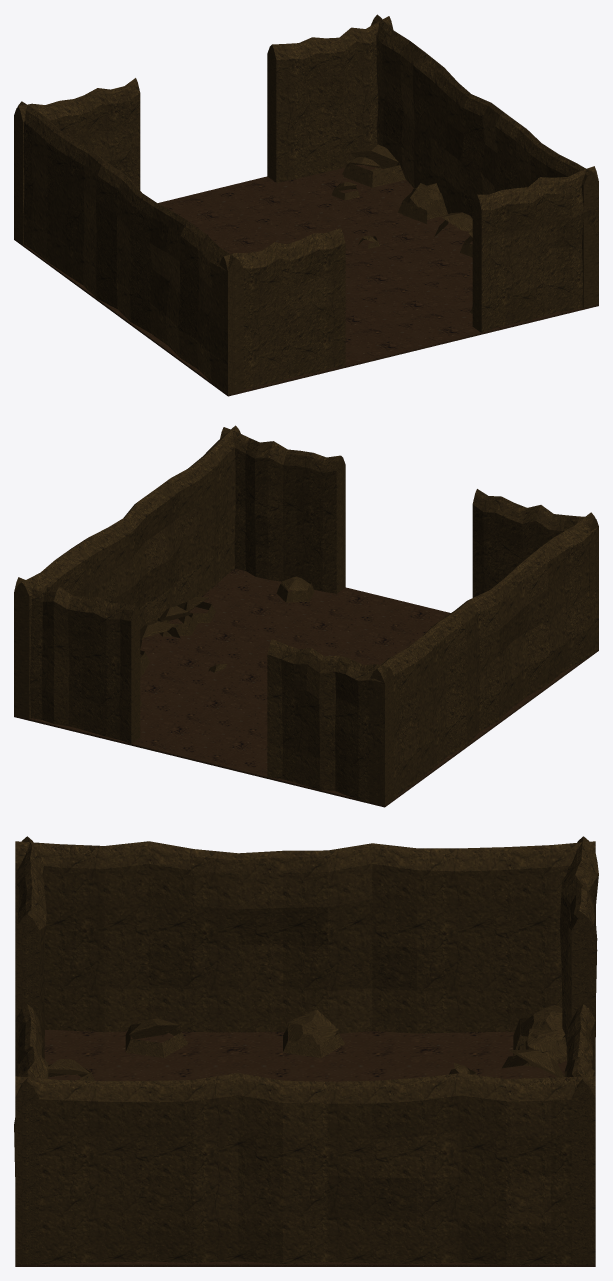
Rendered from dungeon_room_12_dirt_real.glb.
The picture shows the model from 3 angles, top to bottom: view 1: azimuth 30°, elevation 25°; view 2: azimuth 150°, elevation 25°; view 3: azimuth 270°, elevation 25°; orthographic projection. The views are drawn at different scales.
Visible parts, largest first — view 1: dungeon_room_12_dirt; view 2: dungeon_room_12_dirt; view 3: dungeon_room_12_dirt.
Boxes of the visible parts, x1,y1,x2,y2 form: dungeon_room_12_dirt: [14, 14, 598, 396]; dungeon_room_12_dirt: [14, 425, 598, 807]; dungeon_room_12_dirt: [14, 836, 598, 1266].
Size of the model in its own units: 12.13 by 4.3 by 12.09.
2 materials, 2 textured.
